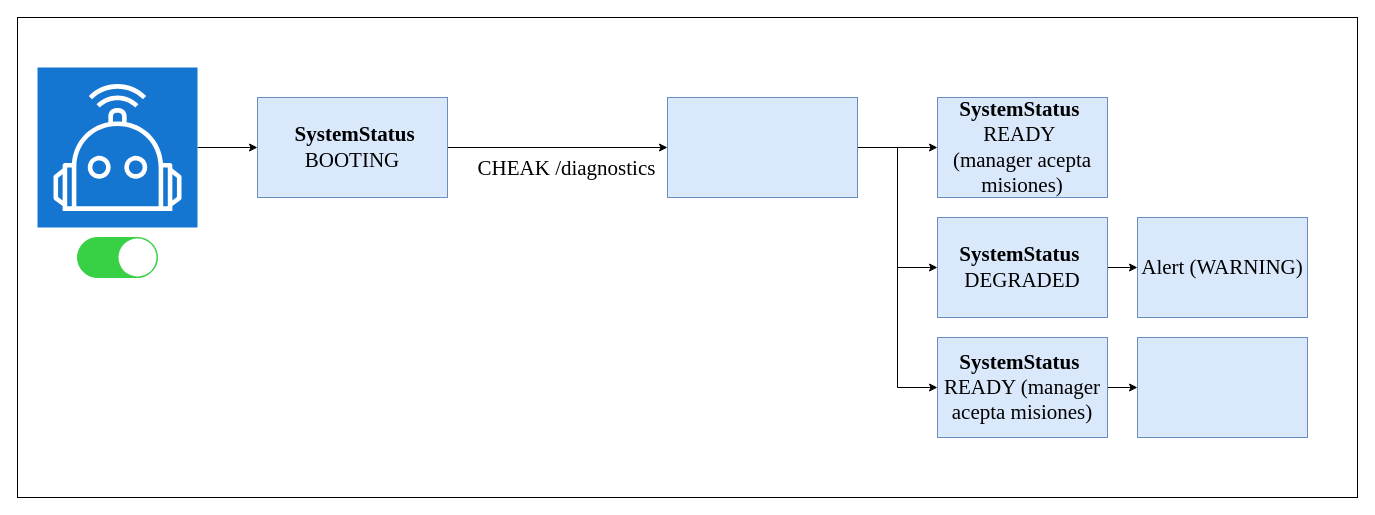
Some shapes in this 1375 by 515 pixel diagram are drawn without their labels. The shapes that lost their labels are listed below. From the top down, each one's centre as x and y in pixels, then its label:
At (762,147): "SystemStatus SELF_CHECK".
At (1222,387): "Alert + manager rechaza todo".
